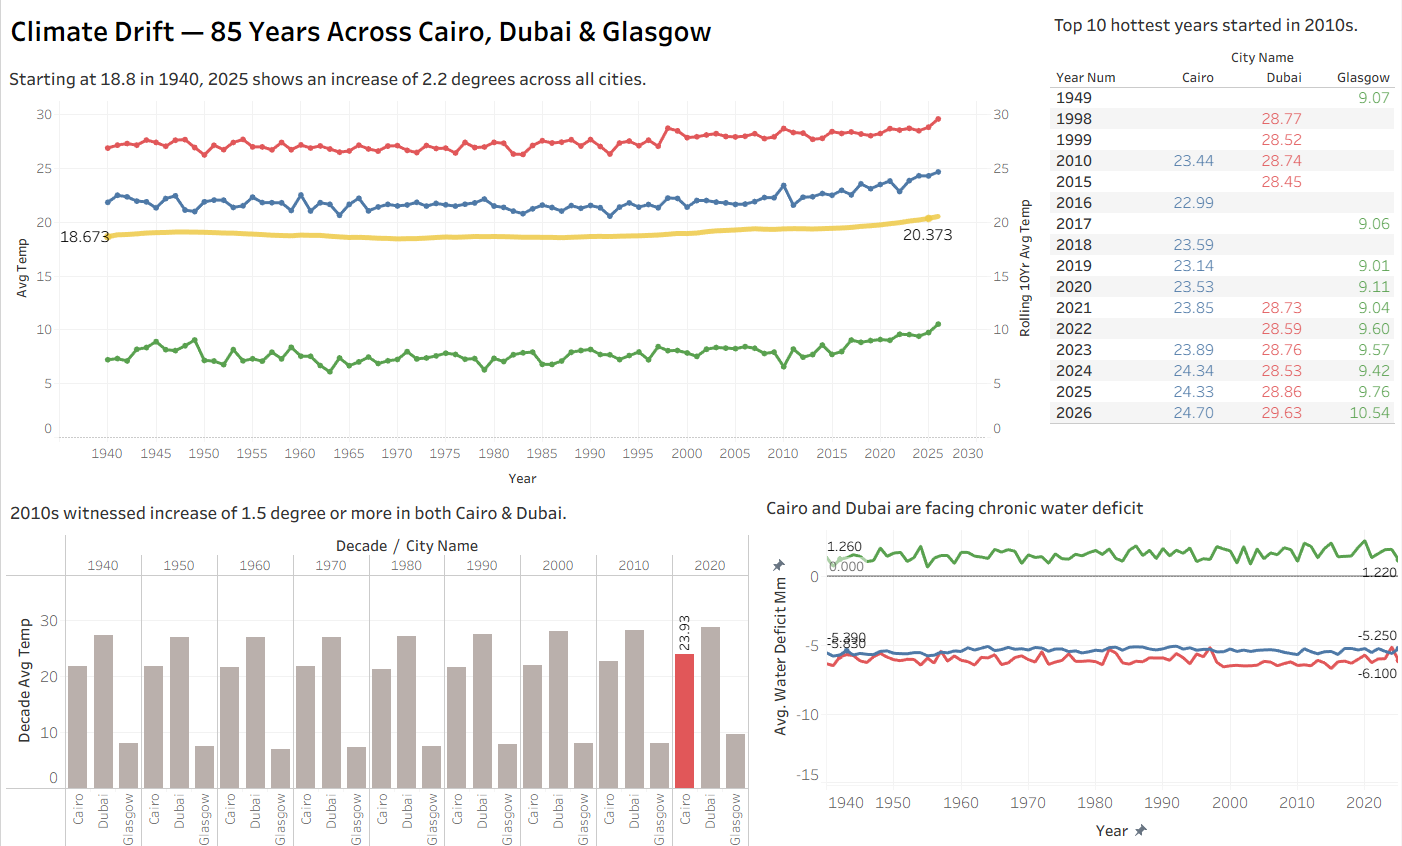

The dashboard page shown, as its layout file describes it:
{"tool":"tableau","page":{"name":"Dashboard 1","canvas":[1400,930],"ordinal":0},"visuals":[{"type":"title","box":[6,5,1028,50]},{"type":"worksheet","title":"Sheet 4","mark":"Automatic","rows":["year_num"],"cols":["city_name"],"box":[1049,8,348,489]},{"type":"worksheet","title":"Sheet 1","mark":"Automatic","rows":["avg_temp_mean","rolling_10yr_avg_temp"],"cols":["year_num"],"box":[4,62,1035,432]},{"type":"worksheet","title":"Sheet 3","mark":"Automatic","rows":["water_deficit_mm"],"cols":["year_num"],"box":[761,491,636,357]},{"type":"worksheet","title":"Sheet 2","mark":"Bar","rows":["decade_avg_temp"],"cols":["decade","city_name"],"box":[5,496,743,353]}]}

Visuals, with their boxes on the page's 1400x930 design canvas (x1, y1, x2, y2). These are canvas units, not pixel positions in the 1402x846 screenshot, which may show the page scaled, cropped or inside an application window:
title: [x1=6, y1=5, x2=1034, y2=55]
"Sheet 4" worksheet: [x1=1049, y1=8, x2=1397, y2=497]
"Sheet 1" worksheet: [x1=4, y1=62, x2=1039, y2=494]
"Sheet 3" worksheet: [x1=761, y1=491, x2=1397, y2=848]
"Sheet 2" worksheet (Bar marks): [x1=5, y1=496, x2=748, y2=849]
